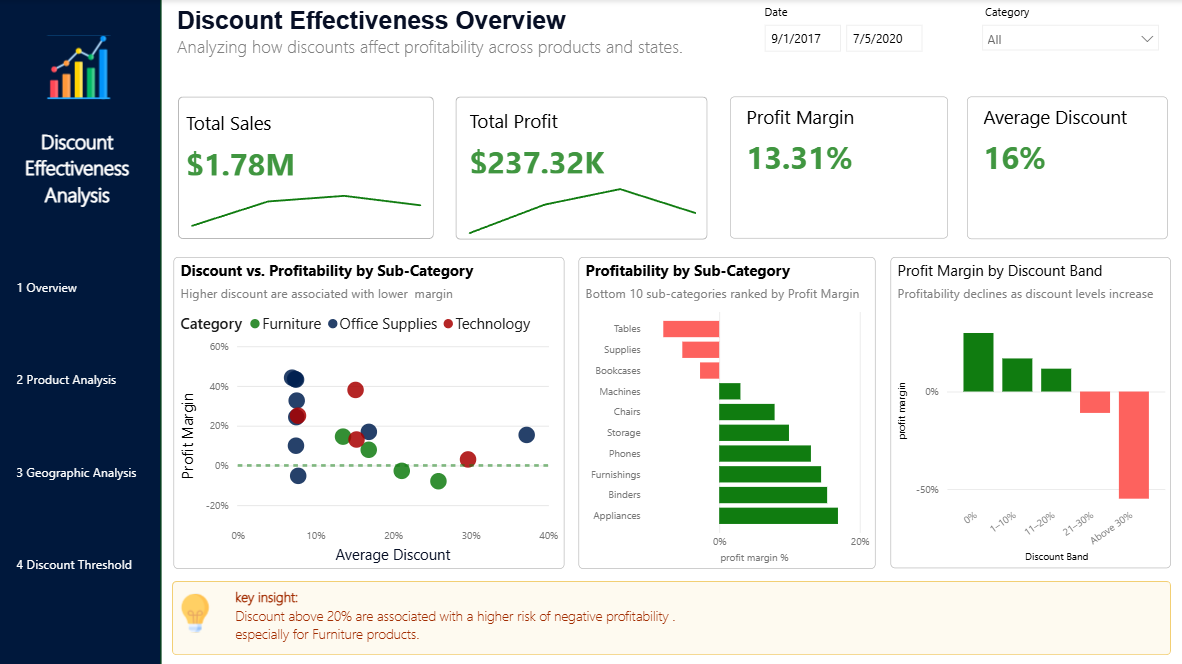

What the dashboard file says about the page in this screenshot:
{"tool":"powerbi","page":{"name":"Overview","canvas":[1280,720],"ordinal":0},"visuals":[{"type":"shape","box":[0,0,176.4,808.3],"z":0,"group":"g4"},{"type":"shape","box":[495,104.5,272.1,154.5],"z":0,"group":"g2"},{"type":"shape","box":[193.5,105.2,276.3,153.8],"z":0,"group":"g3"},{"type":"group","id":"g1","title":"insight bar","box":[187.8,628.9,1078.9,80],"z":0},{"type":"lineChart","fields":{"Category":["DIM_Date.Year"],"Y":["Sum(Fact_Sales.Profit)"]},"box":[494.4,185.1,273.5,73.4],"z":1000,"group":"g2"},{"type":"lineChart","fields":{"Y":["Sum(Fact_Sales.Sales)"],"Category":["DIM_Date.Year"]},"box":[193.5,188.3,276.3,70.7],"z":1000,"group":"g3"},{"type":"actionButton","title":"4 Discount Threshold","box":[0,268.4,176.2,83.4],"z":1000,"group":"g4"},{"type":"cardVisual","fields":{"Data":["Sum(Fact_Sales.Profit)"]},"box":[494.4,104.6,271.7,88.4],"z":2000,"group":"g2"},{"type":"cardVisual","fields":{"Data":["Sum(Fact_Sales.Sales)"]},"box":[187.8,108.1,285,87],"z":2000,"group":"g3"},{"type":"actionButton","title":"3 Geographic Analysis","box":[0.6,369,176.4,82.6],"z":2000,"group":"g4"},{"type":"actionButton","title":"2 Product Analysis","box":[0.6,468.9,176.4,82.6],"z":3000,"group":"g4"},{"type":"actionButton","title":"1 Overview","box":[0.6,568.8,176.4,82.6],"z":4000,"group":"g4"},{"type":"textbox","box":[15.2,132.8,141.6,111.8],"z":5000,"group":"g4"},{"type":"actionButton","box":[41.7,35,90,76.7],"z":5500,"group":"g4"},{"type":"barChart","title":"Profitability by Sub-Category","fields":{"Category":["DIM_Product.Sub-Category"],"Y":["Measures_Table.profit margin"]},"box":[626.8,278.4,320.6,336.8],"z":8000},{"type":"columnChart","title":"Profit Margin by Discount Band","fields":{"Y":["Measures_Table.profit margin"],"Category":["Fact_Sales.Discount Band"]},"box":[963.1,278.8,302.9,335.9],"z":9000},{"type":"scatterChart","title":"Discount vs. Profitability by Sub-Category","fields":{"X":["Avg(Fact_Sales.Discount)"],"Y":["Measures_Table.profit margin"],"Series":["DIM_Product.Category"],"Category":["DIM_Product.Sub-Category"]},"box":[189.4,278.4,421.7,336.7],"z":9250},{"type":"cardVisual","fields":{"Data":["Avg(Fact_Sales.Discount)"]},"box":[1046,105.2,217,153.8],"z":9500},{"type":"cardVisual","fields":{"Data":["Measures_Table.profit margin"]},"box":[789.4,105.3,235,153.3],"z":10000},{"type":"group","id":"g2","title":"total profit card","box":[494.4,104.5,273.3,155],"z":11000},{"type":"group","id":"g3","title":"total sales card","box":[187.8,105.2,285,153.8],"z":11500},{"type":"slicer","fields":{"Values":["DIM_Product.Category"]},"box":[1052.5,0,210.5,76.1],"z":12750},{"type":"slicer","fields":{"Values":["DIM_Date.Date"]},"box":[814.5,0,221.8,76.1],"z":13125},{"type":"shape","box":[188.3,628.9,1078.4,80],"z":13500,"group":"g1"},{"type":"textbox","box":[187.8,3.2,610.4,79.3],"z":13562},{"type":"group","id":"g4","title":"Sidebar Panel","box":[0,0,177,808.3],"z":14000},{"type":"actionButton","box":[187.8,638.7,53.4,50],"z":14000,"group":"g1"},{"type":"textbox","box":[250.9,630.7,1012,77.7],"z":14500,"group":"g1"}]}

Visuals, with their boxes in screenshot pixels (x1, y1, x2, y2), scaled from the page's 1280x720 canvas onto the 1182x664 screenshot:
shape: (0,0,163,663)
shape: (457,96,708,239)
shape: (179,97,434,239)
"insight bar" group: (173,580,1170,654)
lineChart - DIM_Date.Year x Sum(Fact_Sales.Profit): (457,171,709,238)
lineChart - Sum(Fact_Sales.Sales) x DIM_Date.Year: (179,174,434,239)
"4 Discount Threshold" actionButton: (0,248,163,324)
cardVisual - Sum(Fact_Sales.Profit): (457,96,707,178)
cardVisual - Sum(Fact_Sales.Sales): (173,100,437,180)
"3 Geographic Analysis" actionButton: (1,340,163,416)
"2 Product Analysis" actionButton: (1,432,163,509)
"1 Overview" actionButton: (1,525,163,601)
textbox: (14,122,145,226)
actionButton: (39,32,122,103)
"Profitability by Sub-Category" barChart: (579,257,875,567)
"Profit Margin by Discount Band" columnChart: (889,257,1169,567)
"Discount vs. Profitability by Sub-Category" scatterChart: (175,257,564,567)
cardVisual - Avg(Fact_Sales.Discount): (966,97,1166,239)
cardVisual - Measures_Table.profit margin: (729,97,946,238)
"total profit card" group: (457,96,709,239)
"total sales card" group: (173,97,437,239)
slicer - DIM_Product.Category: (972,0,1166,70)
slicer - DIM_Date.Date: (752,0,957,70)
shape: (174,580,1170,654)
textbox: (173,3,737,76)
"Sidebar Panel" group: (0,0,163,663)
actionButton: (173,589,223,635)
textbox: (232,582,1166,653)
